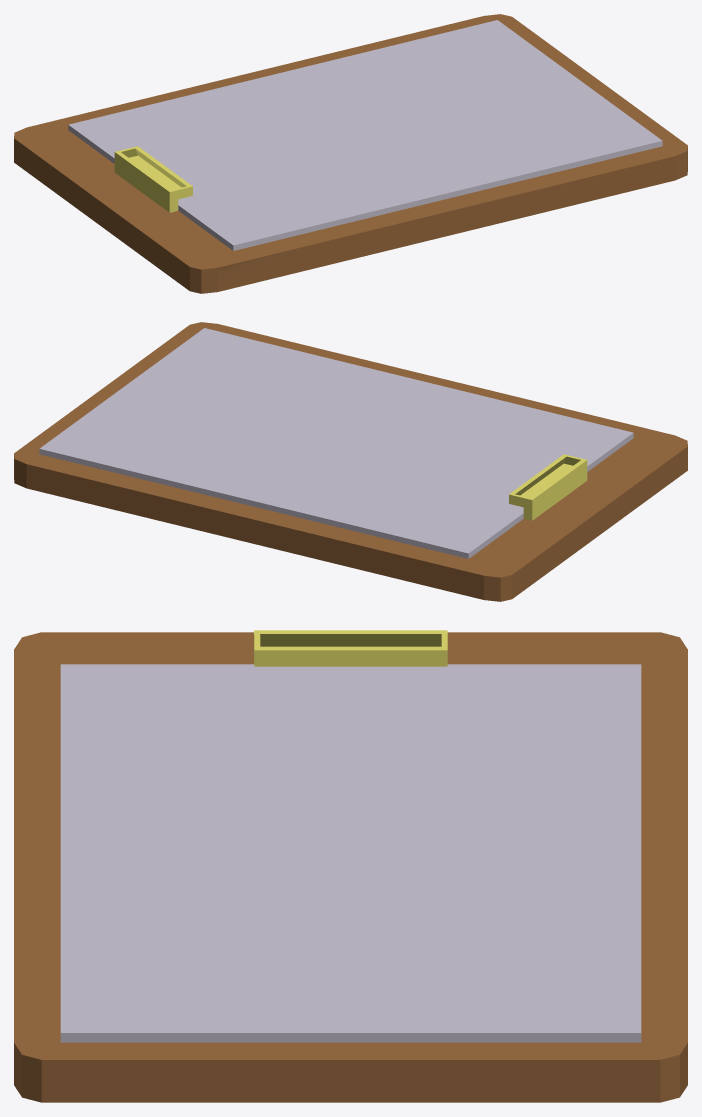
The model's file is clipboard.fbx.
3 views of the same model, one above another, from view 1: azimuth 30°, elevation 25°; view 2: azimuth 150°, elevation 25°; view 3: azimuth 270°, elevation 25° (orthographic). The views are drawn at different scales.
Visible parts, largest first — view 1: Cube; view 2: Cube; view 3: Cube.
Boxes of the visible parts, <box> form: Cube: <box>14,14,687,293</box>; Cube: <box>14,322,687,601</box>; Cube: <box>14,630,687,1102</box>.
Bounding box in the file's own units: 300 × 25.96 × 200.
